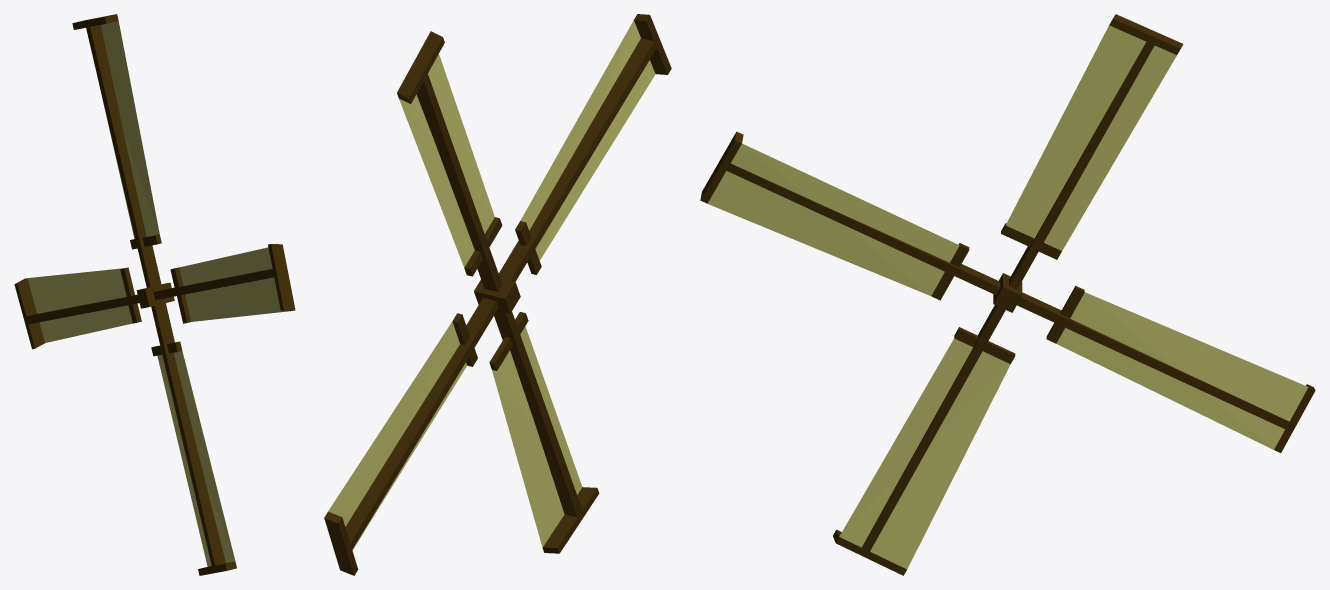
Rendered from mill_sails0014.obj.
3 renders of one model, left to right at view 1: azimuth 30°, elevation 25°; view 2: azimuth 150°, elevation 25°; view 3: azimuth 270°, elevation 25°, orthographic. The views are drawn at different scales.
Parts seen in each view (by area): view 1: Sails; view 2: Sails; view 3: Sails.
Part boxes in pixels (x1,y1,x2,y2): Sails: (14, 14, 295, 575); Sails: (324, 14, 671, 575); Sails: (700, 14, 1315, 575).
Size of the model in its own units: 0.5135 by 9.46 by 9.46.
